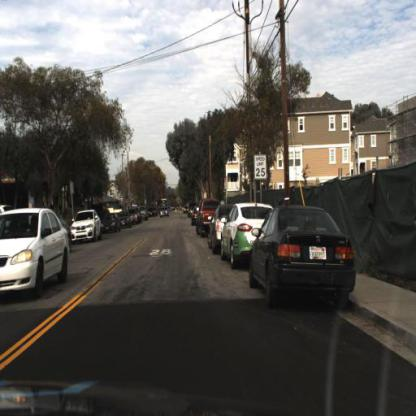car: (248, 202, 357, 308), (1, 204, 72, 302), (222, 201, 272, 271), (220, 201, 267, 271), (69, 204, 101, 246), (207, 200, 229, 255), (70, 209, 102, 245), (207, 202, 228, 256), (195, 199, 214, 239), (100, 208, 121, 238), (57, 216, 73, 254), (99, 214, 120, 236), (116, 211, 132, 229), (130, 208, 141, 226), (138, 206, 149, 224), (160, 207, 170, 219)
